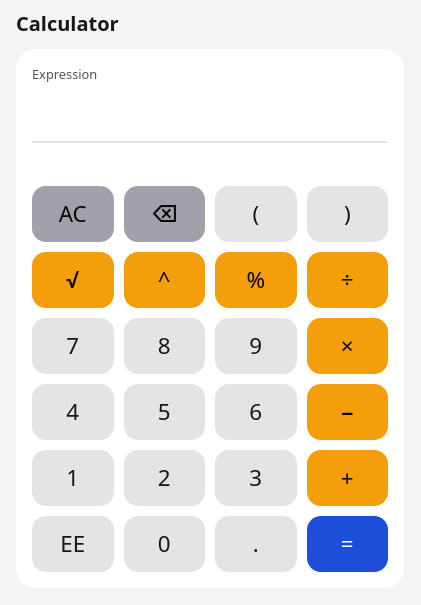
Scenario: calculation with the keypad › deletes the last character with the delete key
Expected: the button named "equals" is shown, [306,516,388,572]
Step 1. Click the button "2" → (164, 478), box [124,450,205,506]
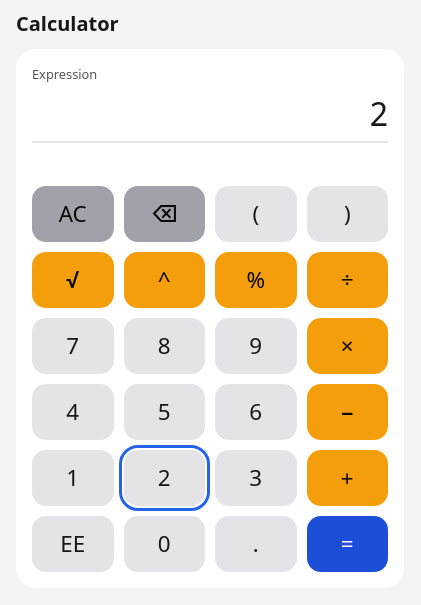
Step 2. Click the button named "plus" → (347, 478), box [306,450,388,506]
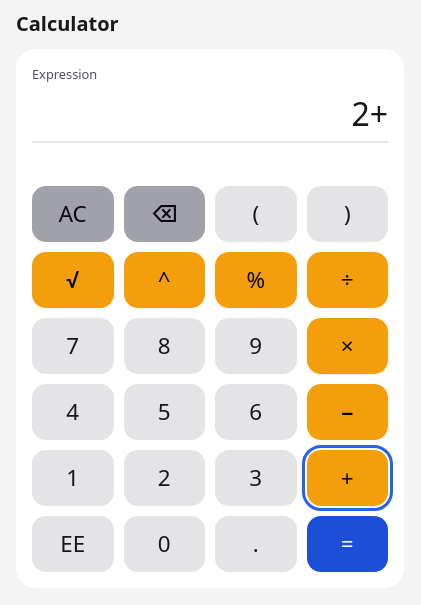
Step 3. Click the button "3" → (256, 478), box [215,450,296,506]
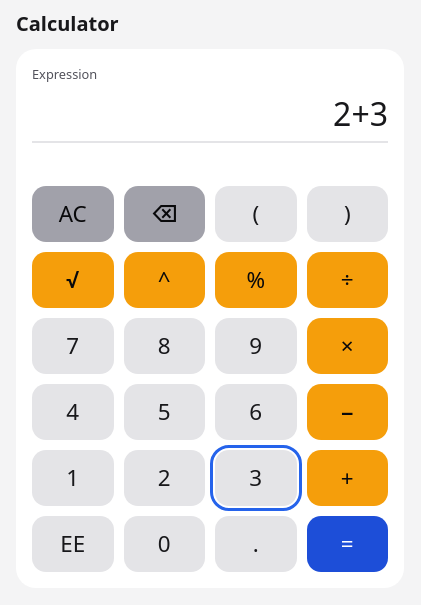
Step 4. Click the button "4" → (73, 412), box [32,384,114,440]
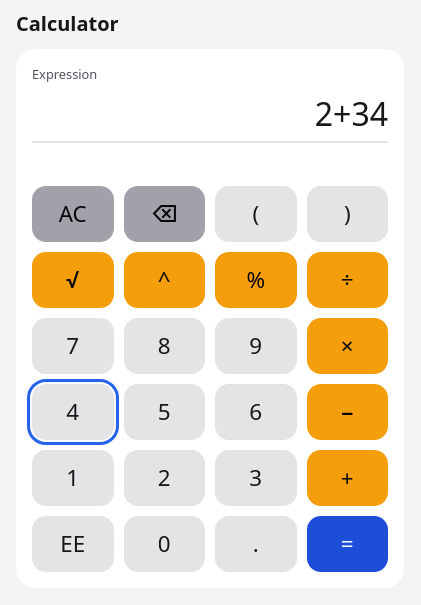
Step 5. Click the button named "delete" → (164, 214), box [124,186,205,242]
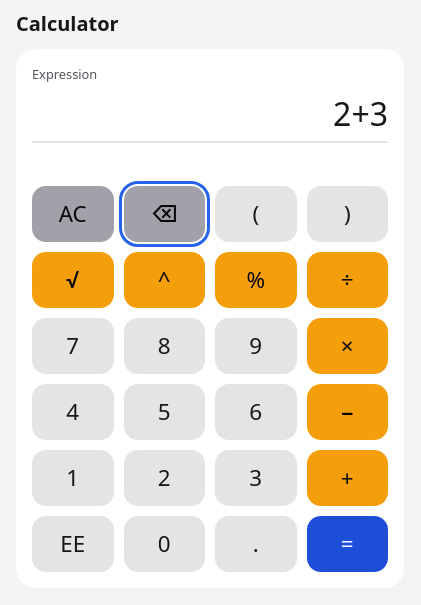
Expected: the field labelled "Expression" holds "2+3", [32,87,388,143]
